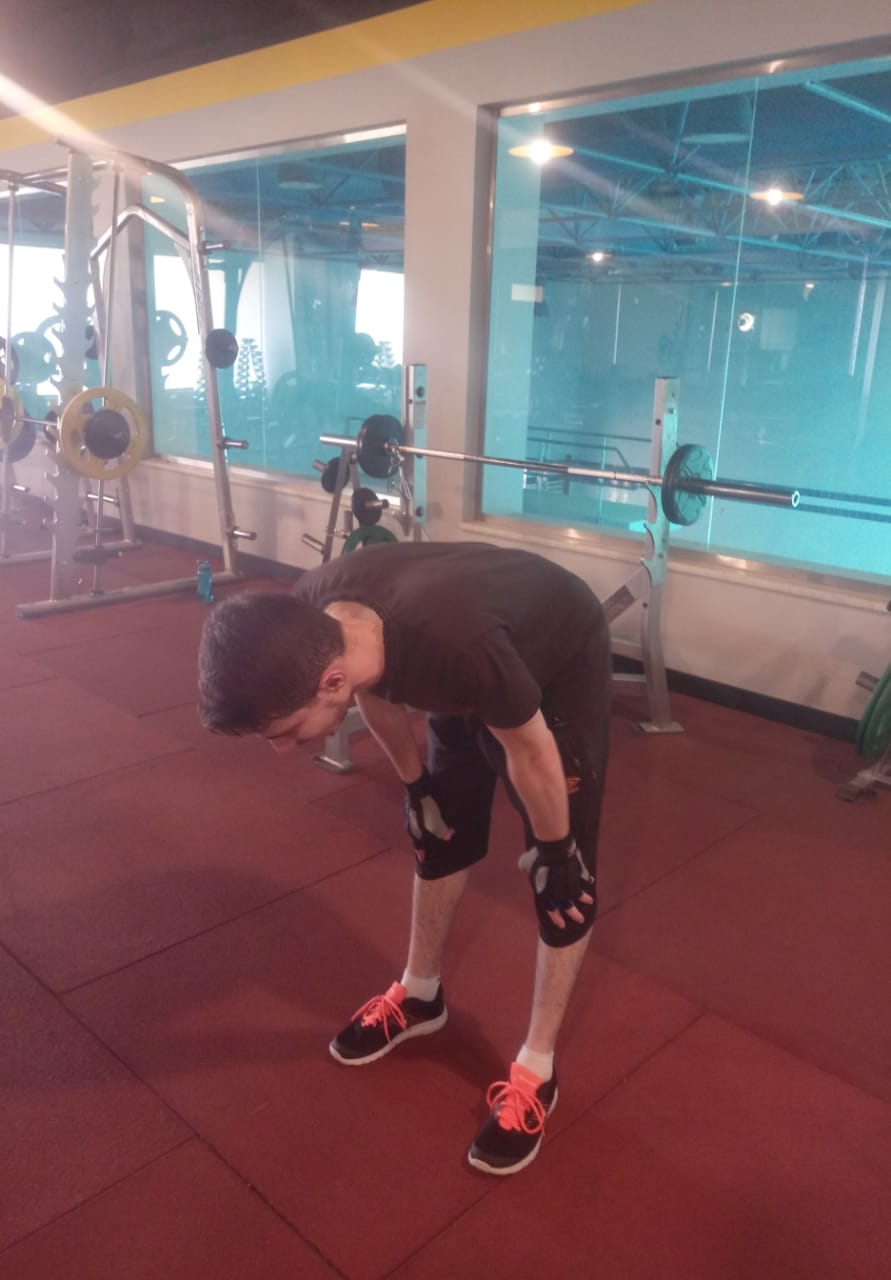ruku: (132, 497, 709, 1156)
